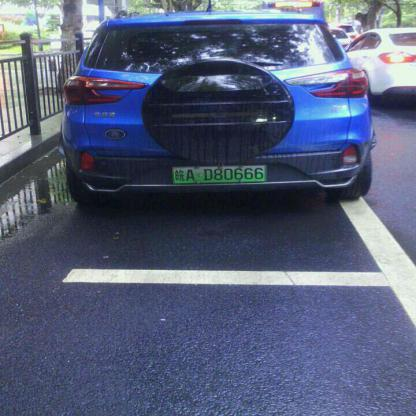lp: (171, 163, 268, 183)
